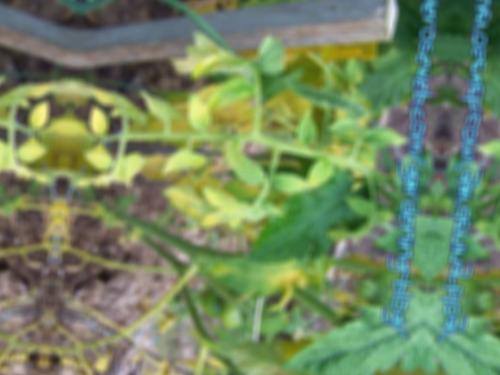Tomato leaf yellow virus: (178, 239, 334, 305), (214, 140, 268, 197), (205, 76, 261, 122), (265, 167, 327, 203), (179, 91, 218, 135)
